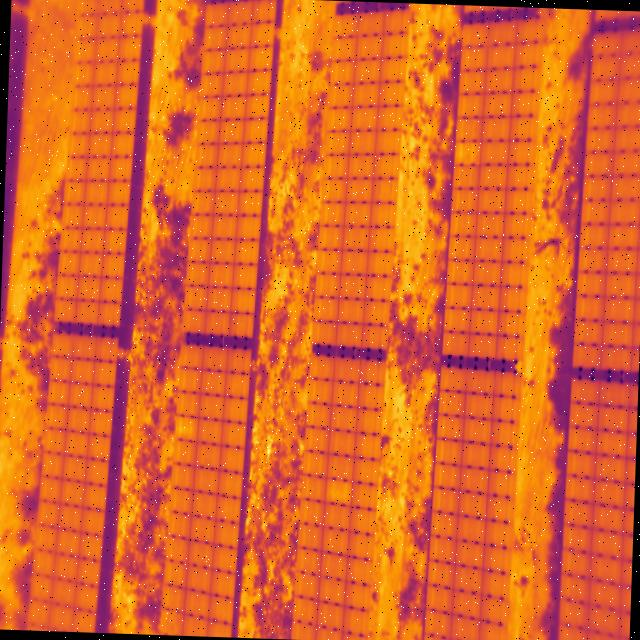Hotspot: (328, 476, 352, 506), (173, 416, 198, 440), (458, 140, 479, 162)
